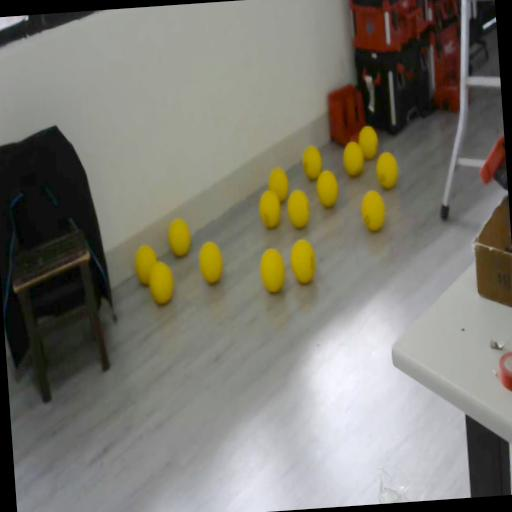FUEL: (258, 245, 288, 294), (288, 236, 318, 284), (146, 258, 176, 305), (197, 238, 226, 286), (359, 188, 387, 232), (286, 186, 312, 230), (166, 216, 193, 258), (376, 150, 400, 190), (316, 169, 340, 209), (342, 140, 365, 178), (268, 166, 290, 204), (300, 145, 322, 180), (358, 125, 380, 160)
